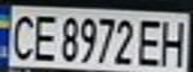2: (115, 15, 139, 66)
7: (97, 13, 118, 64)
8: (54, 12, 81, 63)
9: (75, 12, 100, 64)
C: (3, 10, 39, 62)
E: (133, 16, 169, 68), (27, 11, 60, 63)
H: (154, 16, 193, 68)
